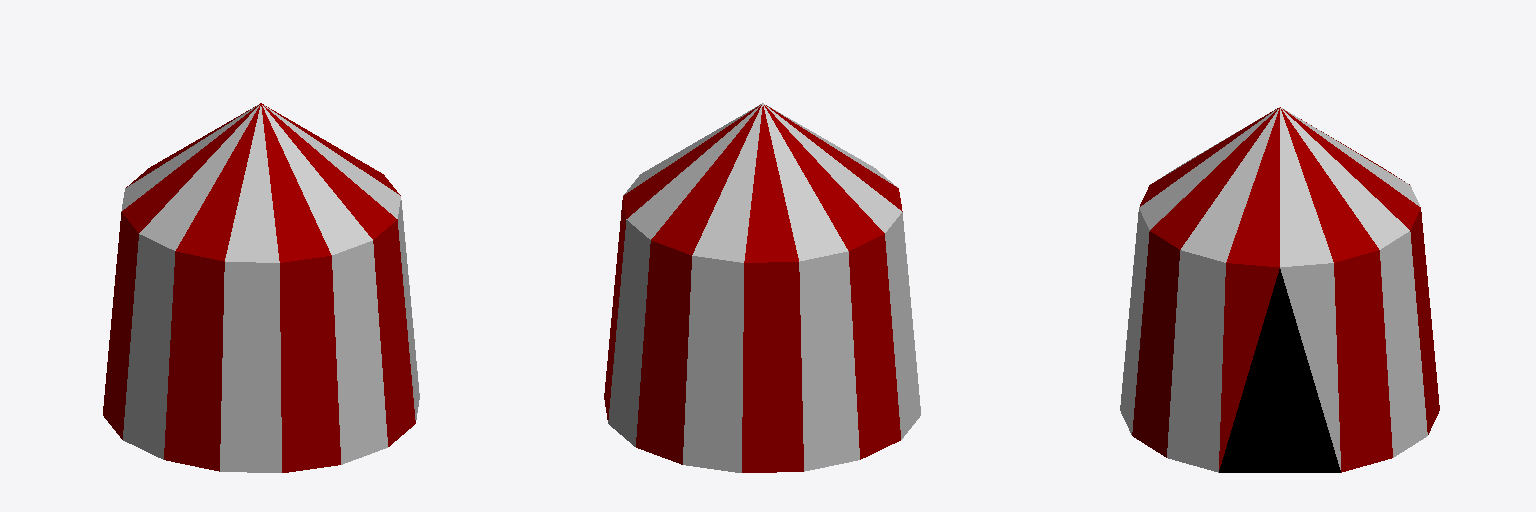
Rendered from tent.obj.
3 views of the same model, side by side, from view 1: azimuth 30°, elevation 25°; view 2: azimuth 150°, elevation 25°; view 3: azimuth 270°, elevation 25° (orthographic).
Visible parts, largest first — view 1: Cylinder; view 2: Cylinder; view 3: Cylinder.
Boxes of the visible parts, x1=… form: Cylinder: x1=103, y1=103, x2=419, y2=472; Cylinder: x1=604, y1=103, x2=920, y2=472; Cylinder: x1=1120, y1=107, x2=1439, y2=472.
Size of the model in its own units: 5.77 by 6.28 by 6.